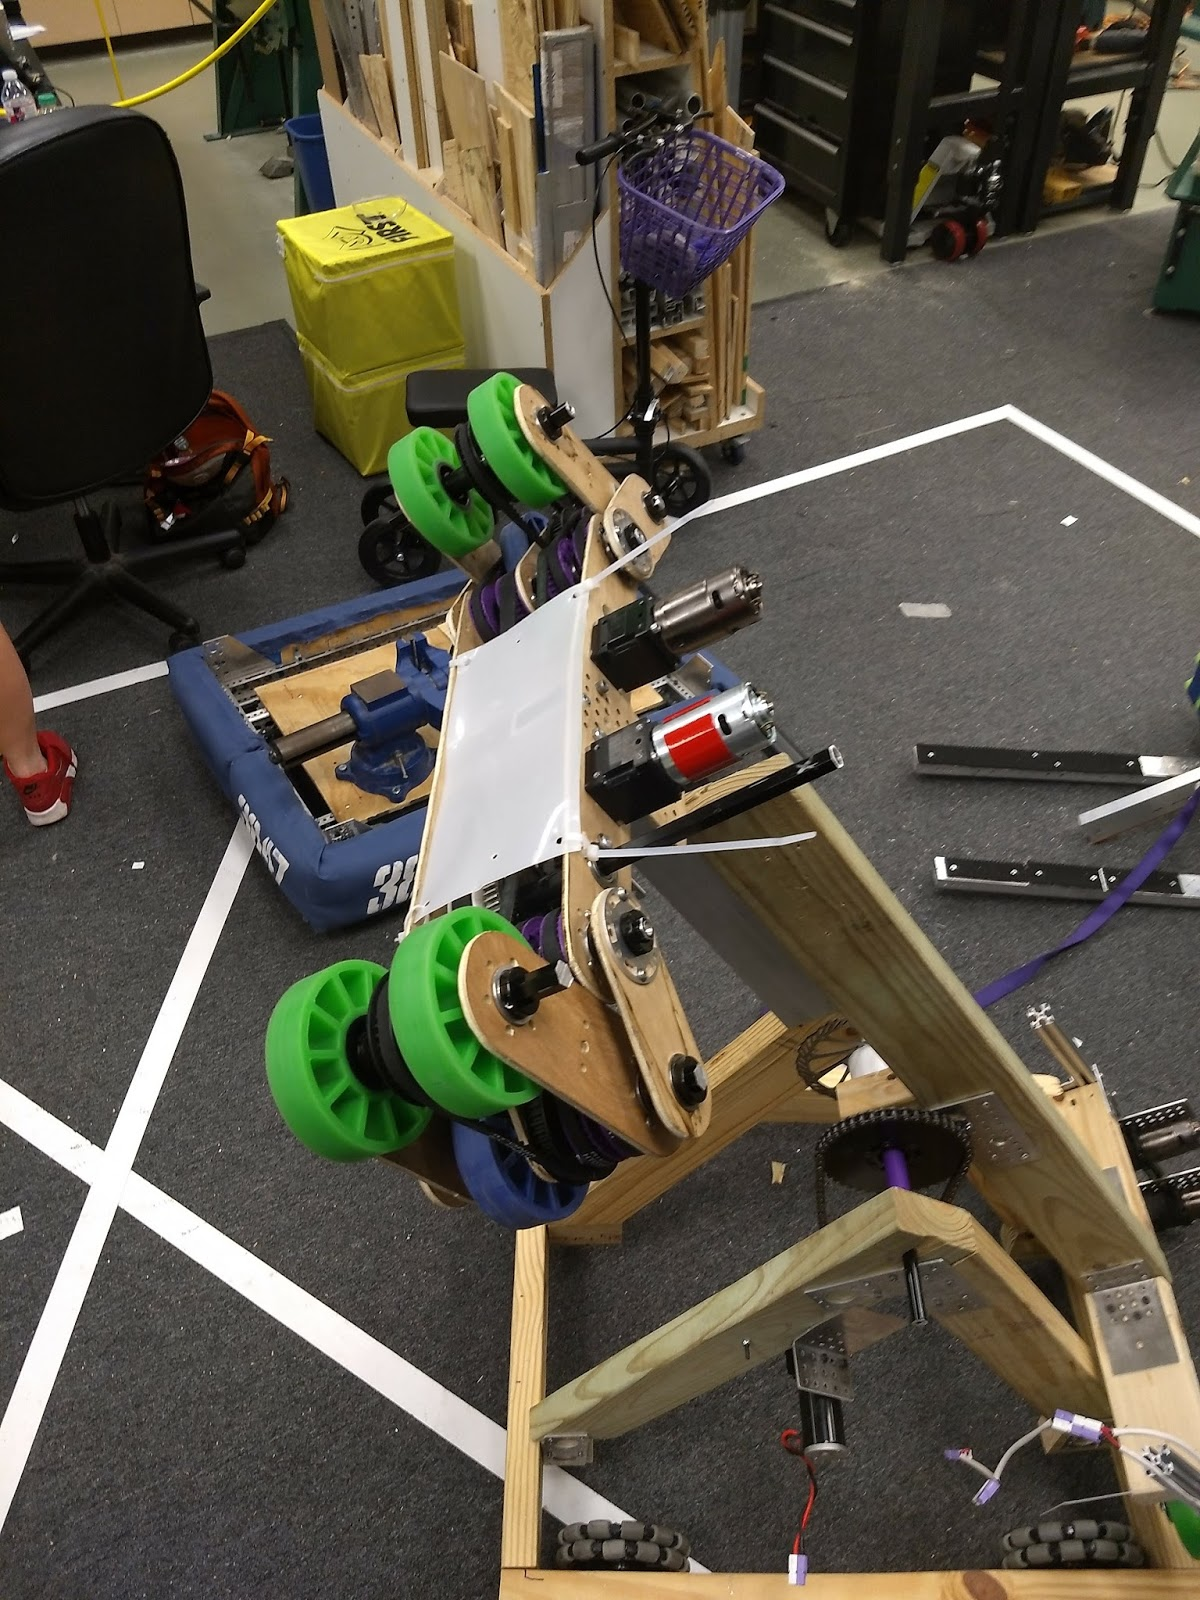cube: (279, 193, 464, 370), (294, 317, 473, 472)
